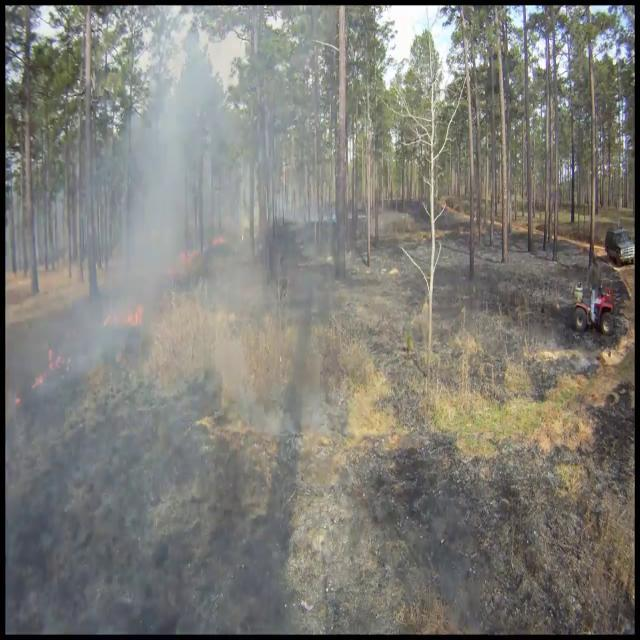Smoke: (17, 11, 360, 624)
